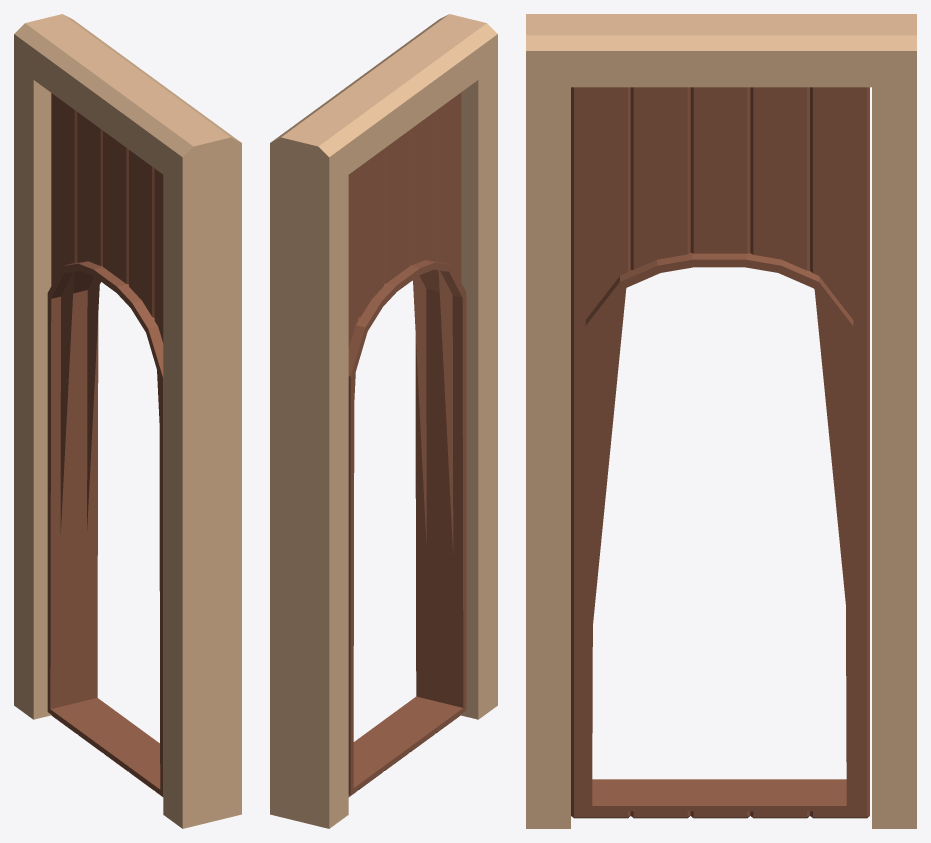
The model's file is Door Frame A.glb.
3 renders of one model, left to right at view 1: azimuth 30°, elevation 25°; view 2: azimuth 150°, elevation 25°; view 3: azimuth 270°, elevation 25°, orthographic. The views are drawn at different scales.
Visible parts, largest first — view 1: Door Frame A; view 2: Door Frame A; view 3: Door Frame A.
Part boxes in pixels (x1,y1,x2,y2): Door Frame A: (14,14,241,828); Door Frame A: (270,14,497,828); Door Frame A: (526,14,916,828).
Size of the model in its own units: 0.0746 by 0.8193 by 0.3683.
